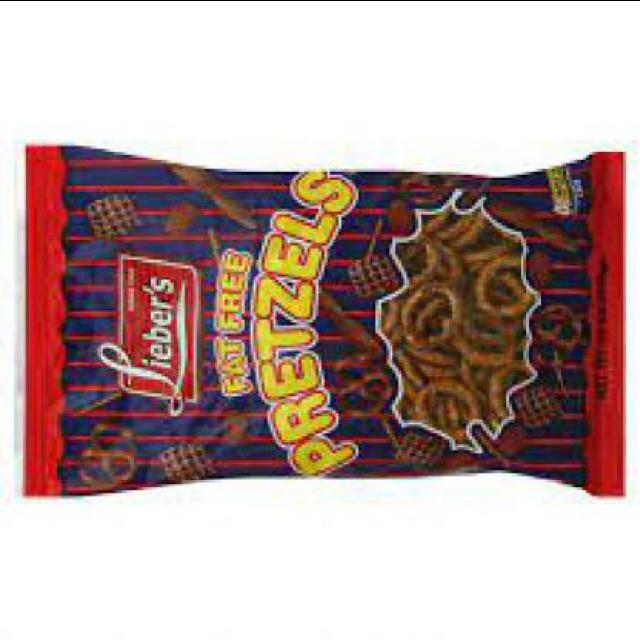Salatini: (13, 139, 630, 510)
